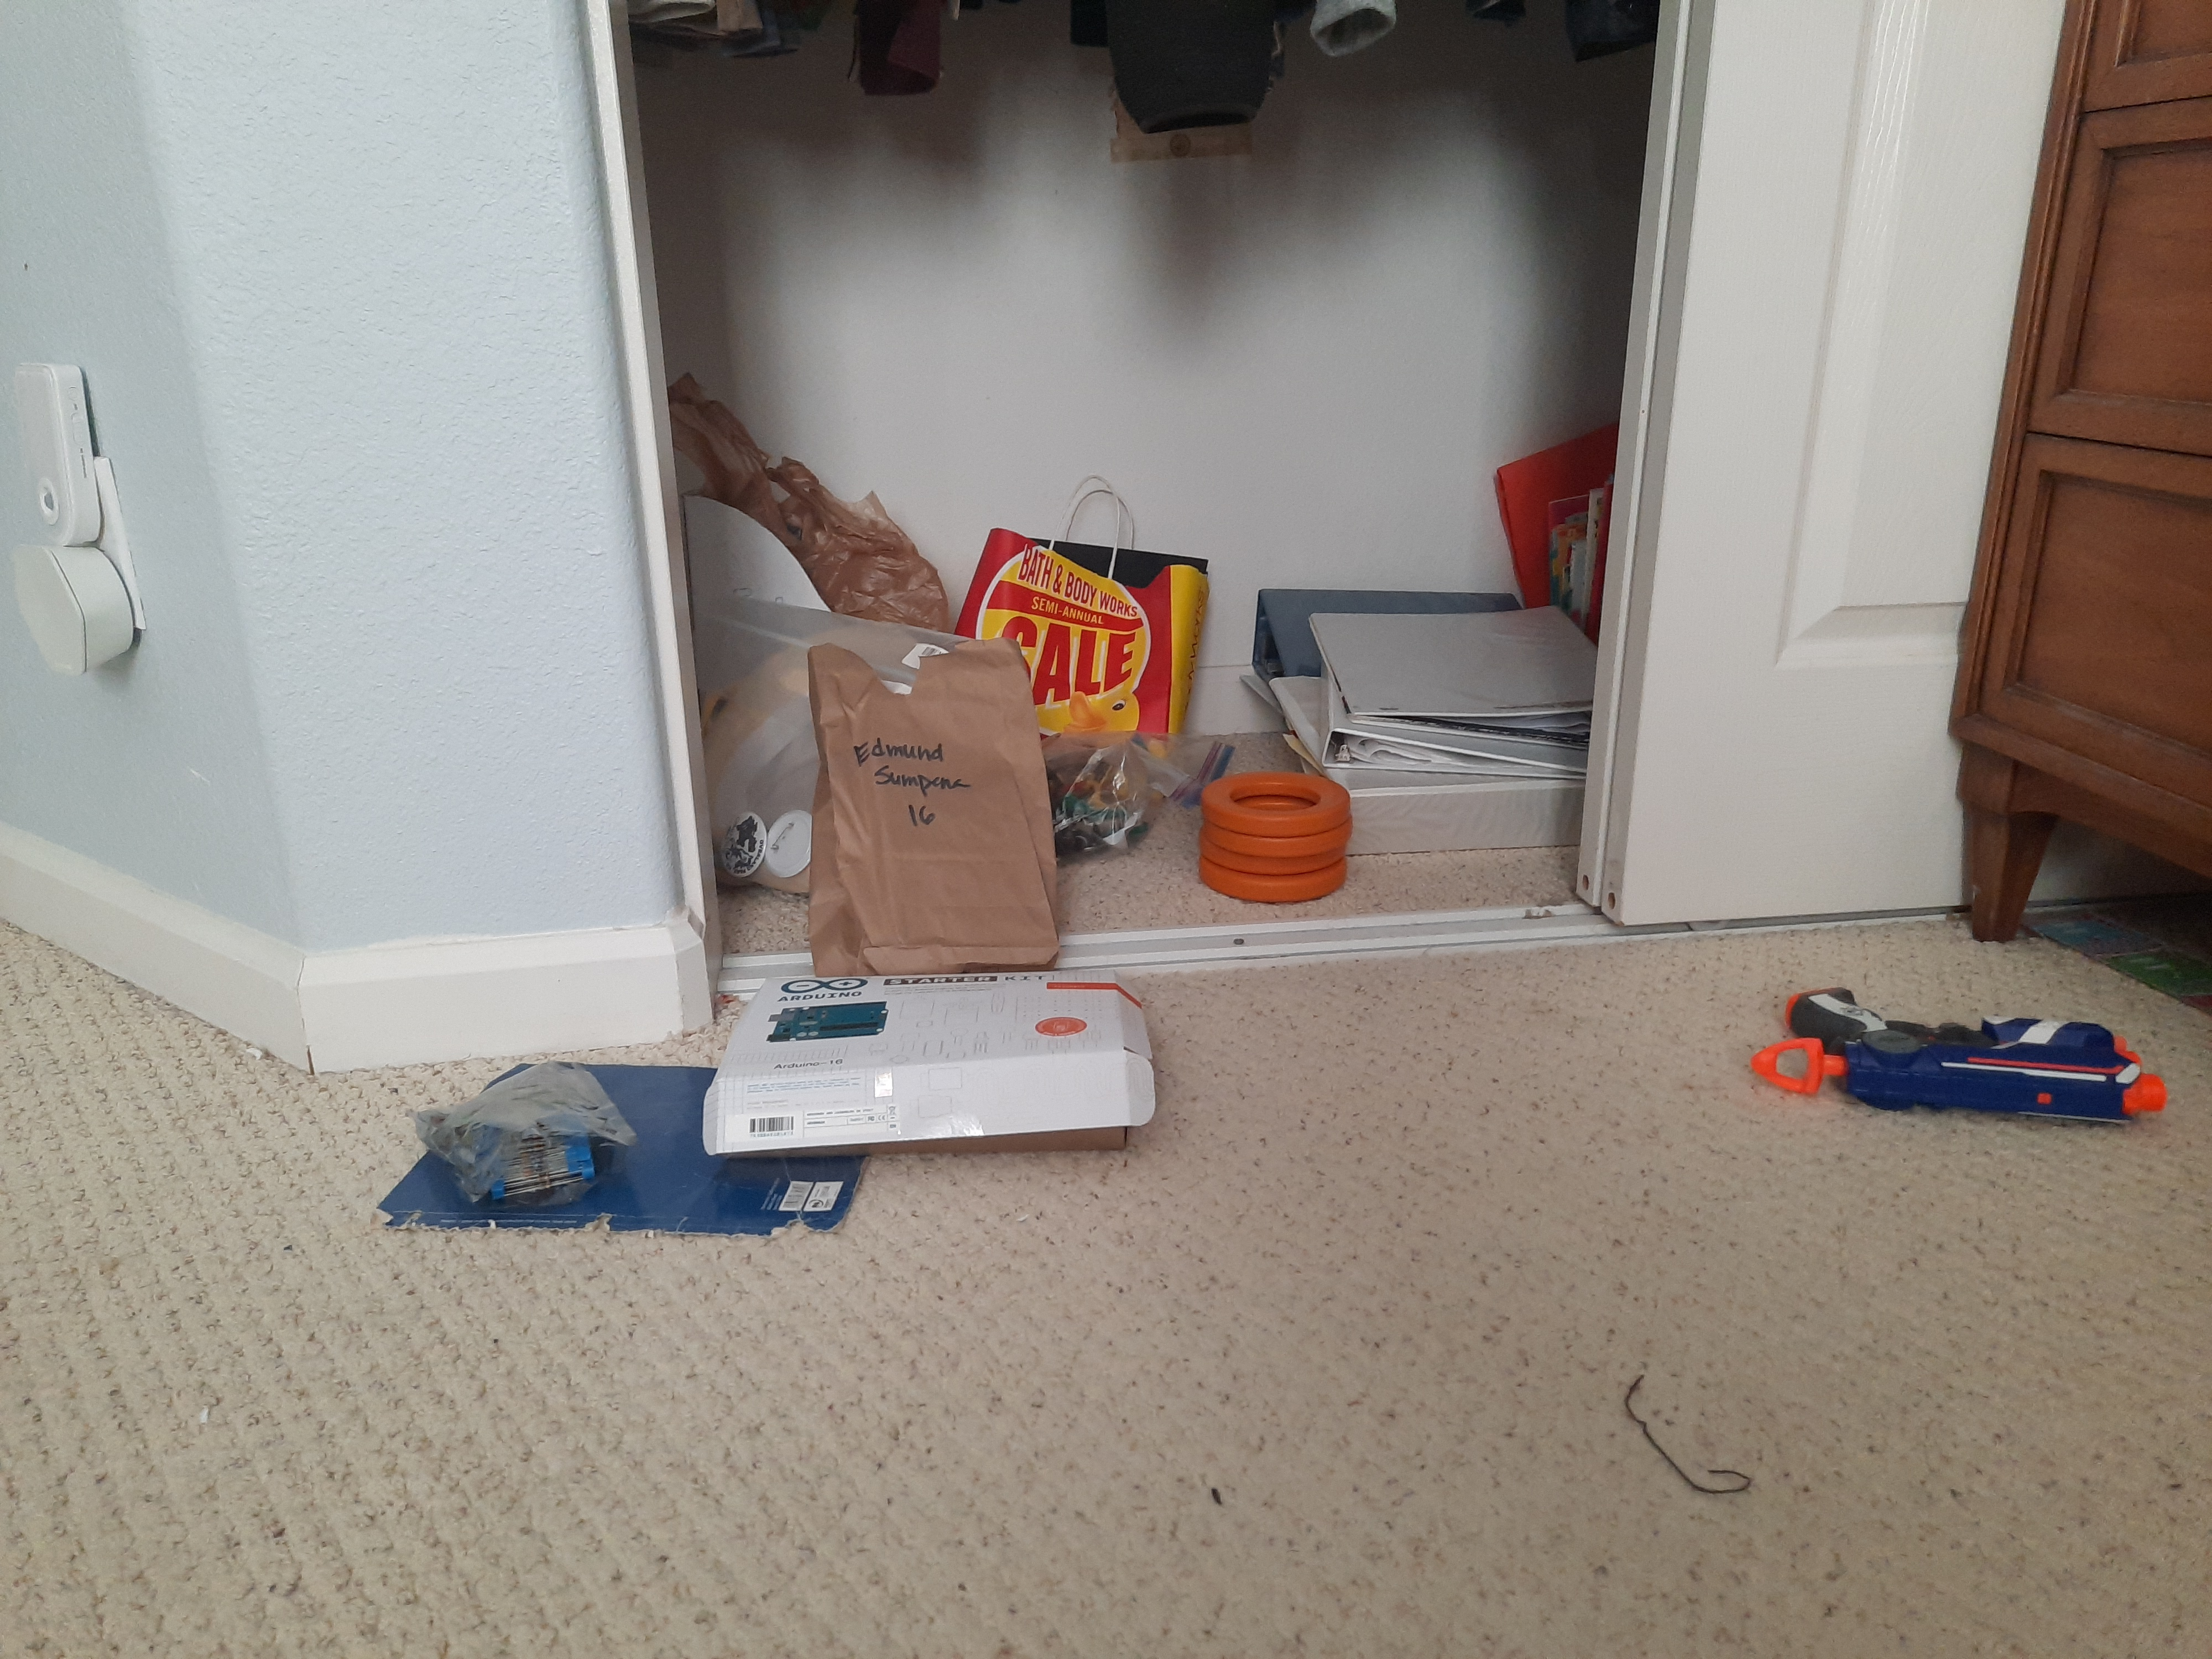FourStack: (1198, 772, 1353, 904)
